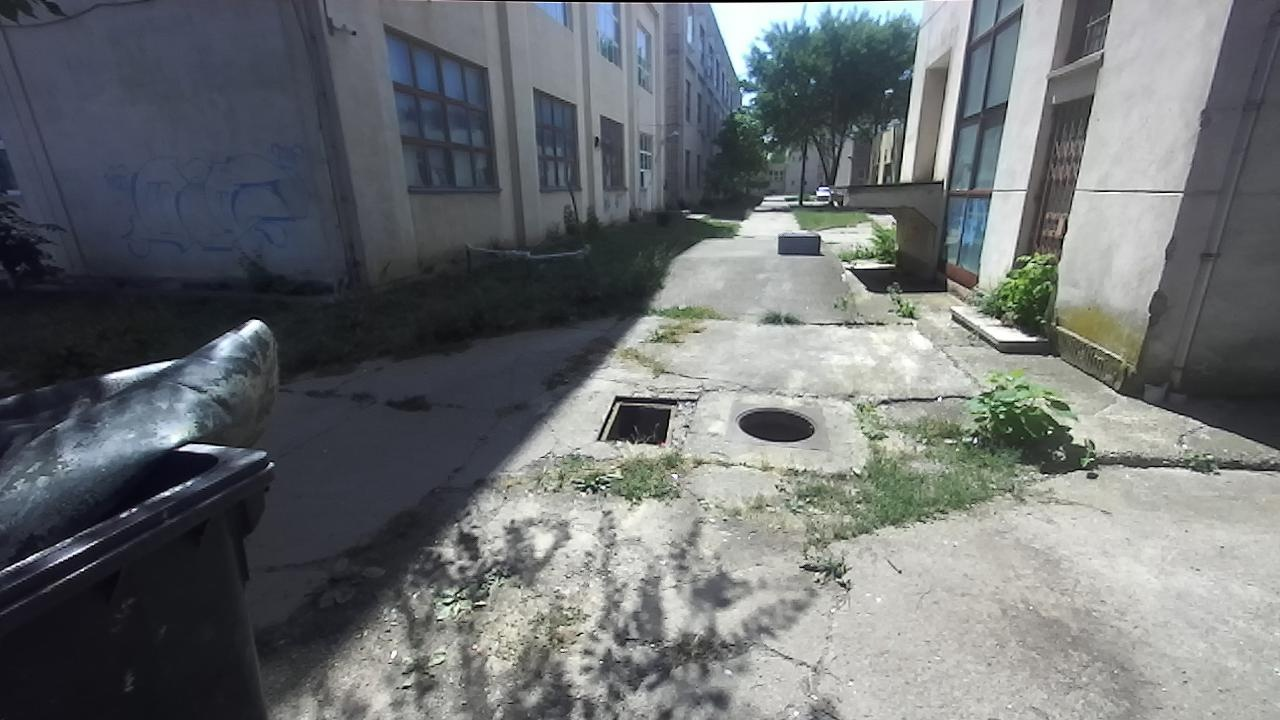drain: (593, 395, 677, 445), (730, 403, 820, 443)
